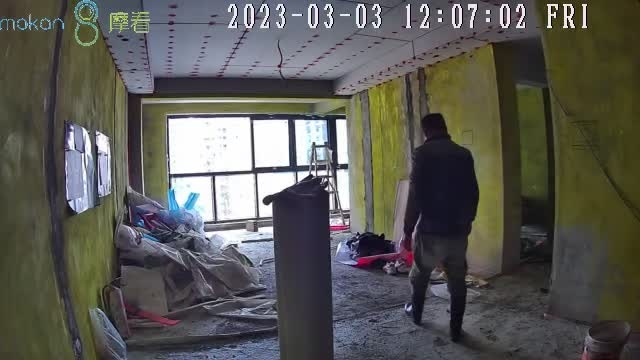people: (403, 114, 479, 335)
window: (166, 115, 347, 231)
